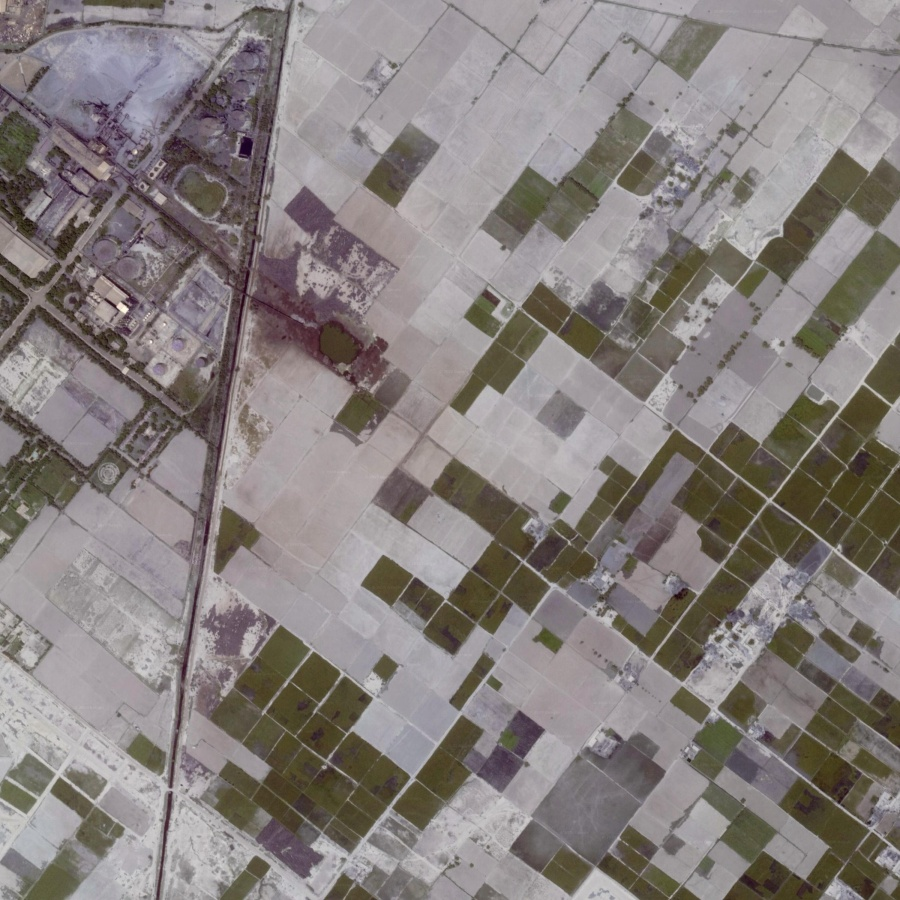PowerPlant: (39, 166, 229, 384)
